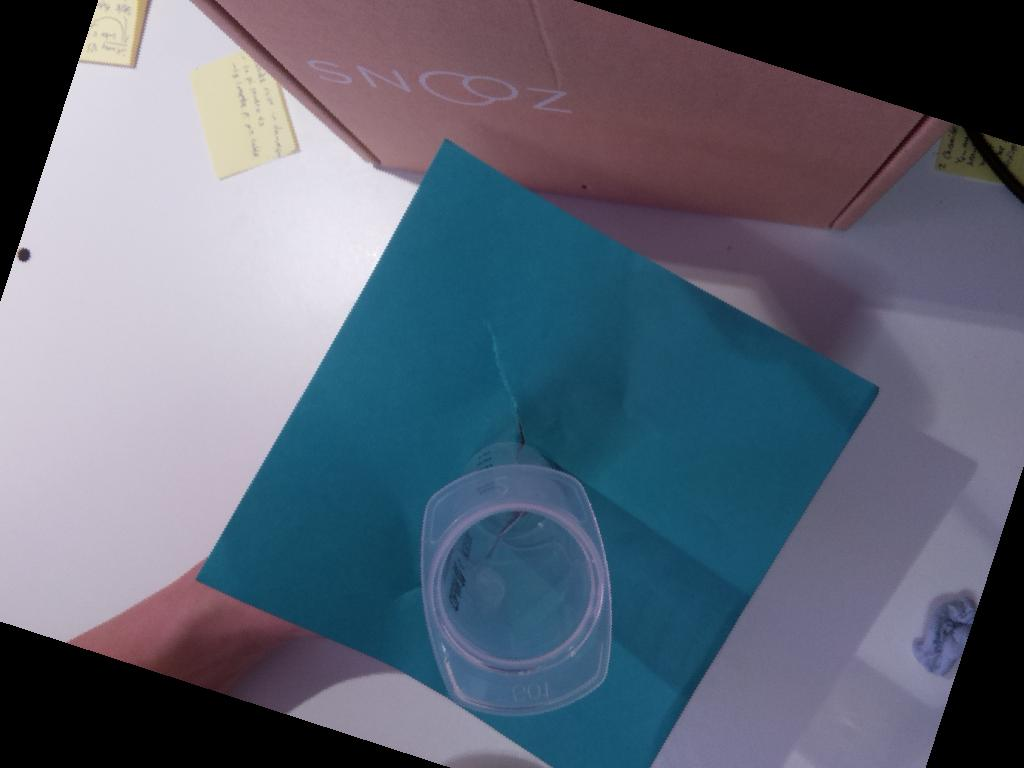clean: (418, 463, 615, 719)
